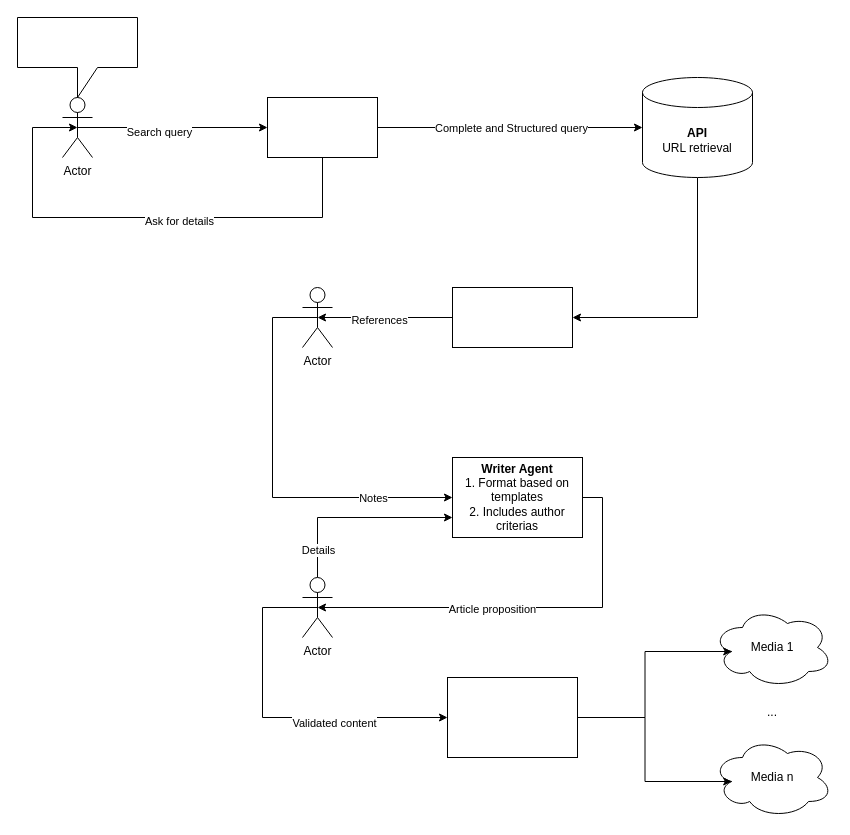
Image size: 850x835. Some labels were removed from this diagram. The shapes that lost their labels are listed below. From the top down, each one's box as (x1, y1, x2, y2) in pixels, then its label:
(16, 16, 138, 98): I want to write a blog about tech startup news
(266, 96, 378, 158): Query Agent Extract and affine search query
(452, 286, 572, 348): Recommendation Agent 1. Keeps relevant info 2. Structures answer
(446, 676, 578, 758): Posting Agent Publish content on blog
